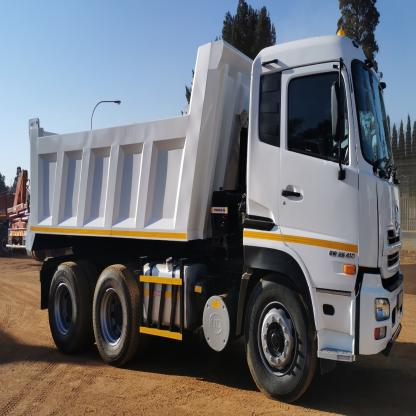dump_truck: (27, 24, 409, 405)
